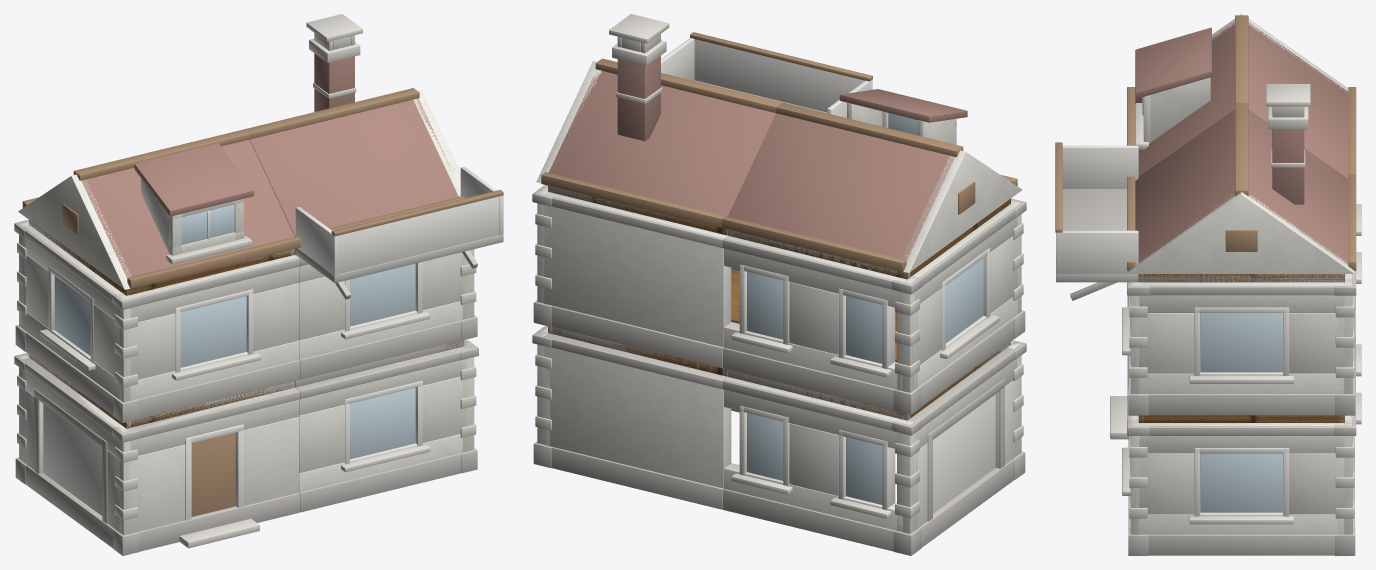
The model's file is th34_beispielhaus.glb.
3 renders of one model, left to right at view 1: azimuth 30°, elevation 25°; view 2: azimuth 150°, elevation 25°; view 3: azimuth 270°, elevation 25°, orthographic. The views are drawn at different scales.
Visible parts, largest first — view 1: Giebel.001, Giebel, Cube.227, Keil.002, Giebel.002, Cube.001, Cube.051, Cube.002, Cube.113, Cube.018, Cube.025, Cube.120 (+59 smaller); view 2: Giebel, Cube.153, Giebel.001, Cube.045, Cube.227, Giebel.002, Cube.051, Cube.046, Cube.154, Cube.043, Cube.151, Cube.028 (+55 smaller); view 3: Giebel.001, Giebel, Giebel.003, Cube.066, Cube.173, Cube.073, Cube.180, Cube.170, Keil.002, Cube.062, Cube.063, Cube.228 (+46 smaller).
Part boxes in pixels (x1=…): Giebel.001: x1=250, y1=99, x2=458, y2=236; Giebel: x1=81, y1=139, x2=294, y2=277; Cube.227: x1=332, y1=196, x2=499, y2=273; Keil.002: x1=134, y1=143, x2=254, y2=216; Giebel.002: x1=18, y1=174, x2=131, y2=289; Cube.001: x1=235, y1=417, x2=298, y2=505; Cube.051: x1=43, y1=404, x2=102, y2=515; Cube.002: x1=130, y1=444, x2=185, y2=533; Cube.113: x1=180, y1=296, x2=246, y2=367; Cube.018: x1=350, y1=387, x2=415, y2=459; Cube.025: x1=299, y1=451, x2=467, y2=512; Cube.120: x1=138, y1=360, x2=299, y2=418; Giebel: x1=728, y1=113, x2=954, y2=260; Cube.153: x1=544, y1=192, x2=731, y2=347; Giebel.001: x1=548, y1=71, x2=776, y2=216; Cube.045: x1=544, y1=346, x2=731, y2=488; Cube.227: x1=694, y1=39, x2=872, y2=112; Giebel.002: x1=902, y1=150, x2=1022, y2=272; Cube.051: x1=933, y1=394, x2=995, y2=513; Cube.046: x1=544, y1=445, x2=723, y2=509; Cube.154: x1=544, y1=304, x2=723, y2=368; Cube.043: x1=723, y1=489, x2=902, y2=551; Cube.151: x1=723, y1=347, x2=901, y2=410; Cube.028: x1=724, y1=377, x2=906, y2=448; Giebel.001: x1=1135, y1=109, x2=1348, y2=264; Giebel: x1=1135, y1=22, x2=1348, y2=178; Giebel.003: x1=1128, y1=192, x2=1354, y2=273; Cube.066: x1=1200, y1=453, x2=1282, y2=512; Cube.173: x1=1200, y1=313, x2=1282, y2=372; Cube.073: x1=1139, y1=534, x2=1343, y2=555; Cube.180: x1=1148, y1=394, x2=1339, y2=415; Cube.170: x1=1139, y1=282, x2=1344, y2=312; Keil.002: x1=1135, y1=27, x2=1211, y2=98; Cube.062: x1=1139, y1=512, x2=1344, y2=534; Cube.063: x1=1139, y1=423, x2=1344, y2=453; Cube.228: x1=1056, y1=230, x2=1138, y2=274.
Bounding box in the file's own units: 8.64 × 9.15 × 5.93.
Materials: 108 (27 with a texture image).
